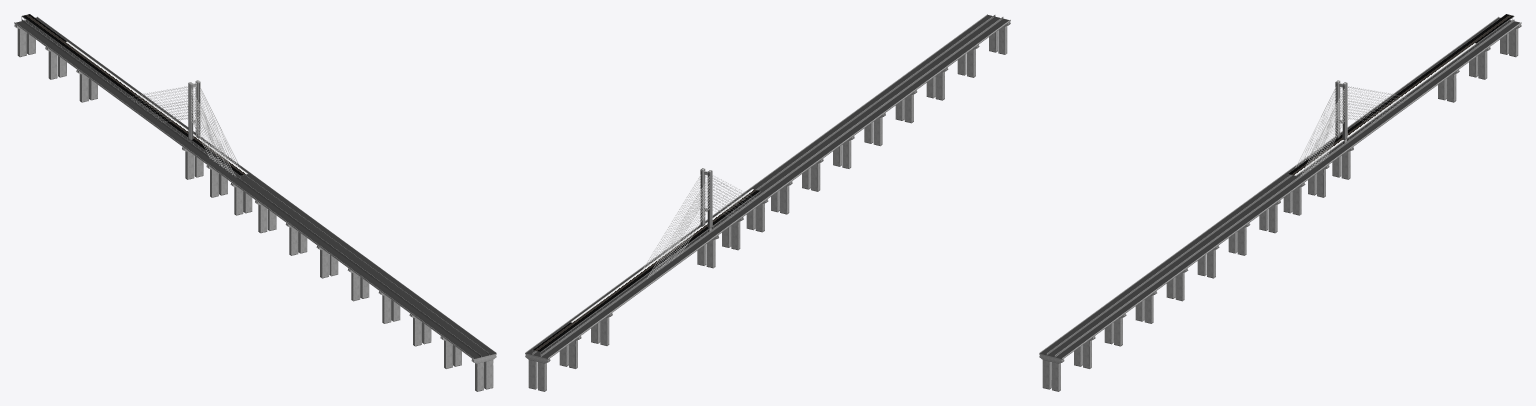
Rendered from south_bridge_kyiv.glb.
The picture shows the model from 3 angles, left to right: view 1: azimuth 30°, elevation 25°; view 2: azimuth 150°, elevation 25°; view 3: azimuth 330°, elevation 25°; orthographic projection.
Parts seen in each view (by area): view 1: Box015; view 2: Box015; view 3: Box015.
Part boxes in pixels (bbox=[...]): Box015: bbox=[14, 14, 496, 391]; Box015: bbox=[525, 14, 1010, 391]; Box015: bbox=[1039, 14, 1521, 391].
Bounding box in the file's own units: 1.6 × 6.04 × 52.91.
Materials: 1 (1 with a texture image).
